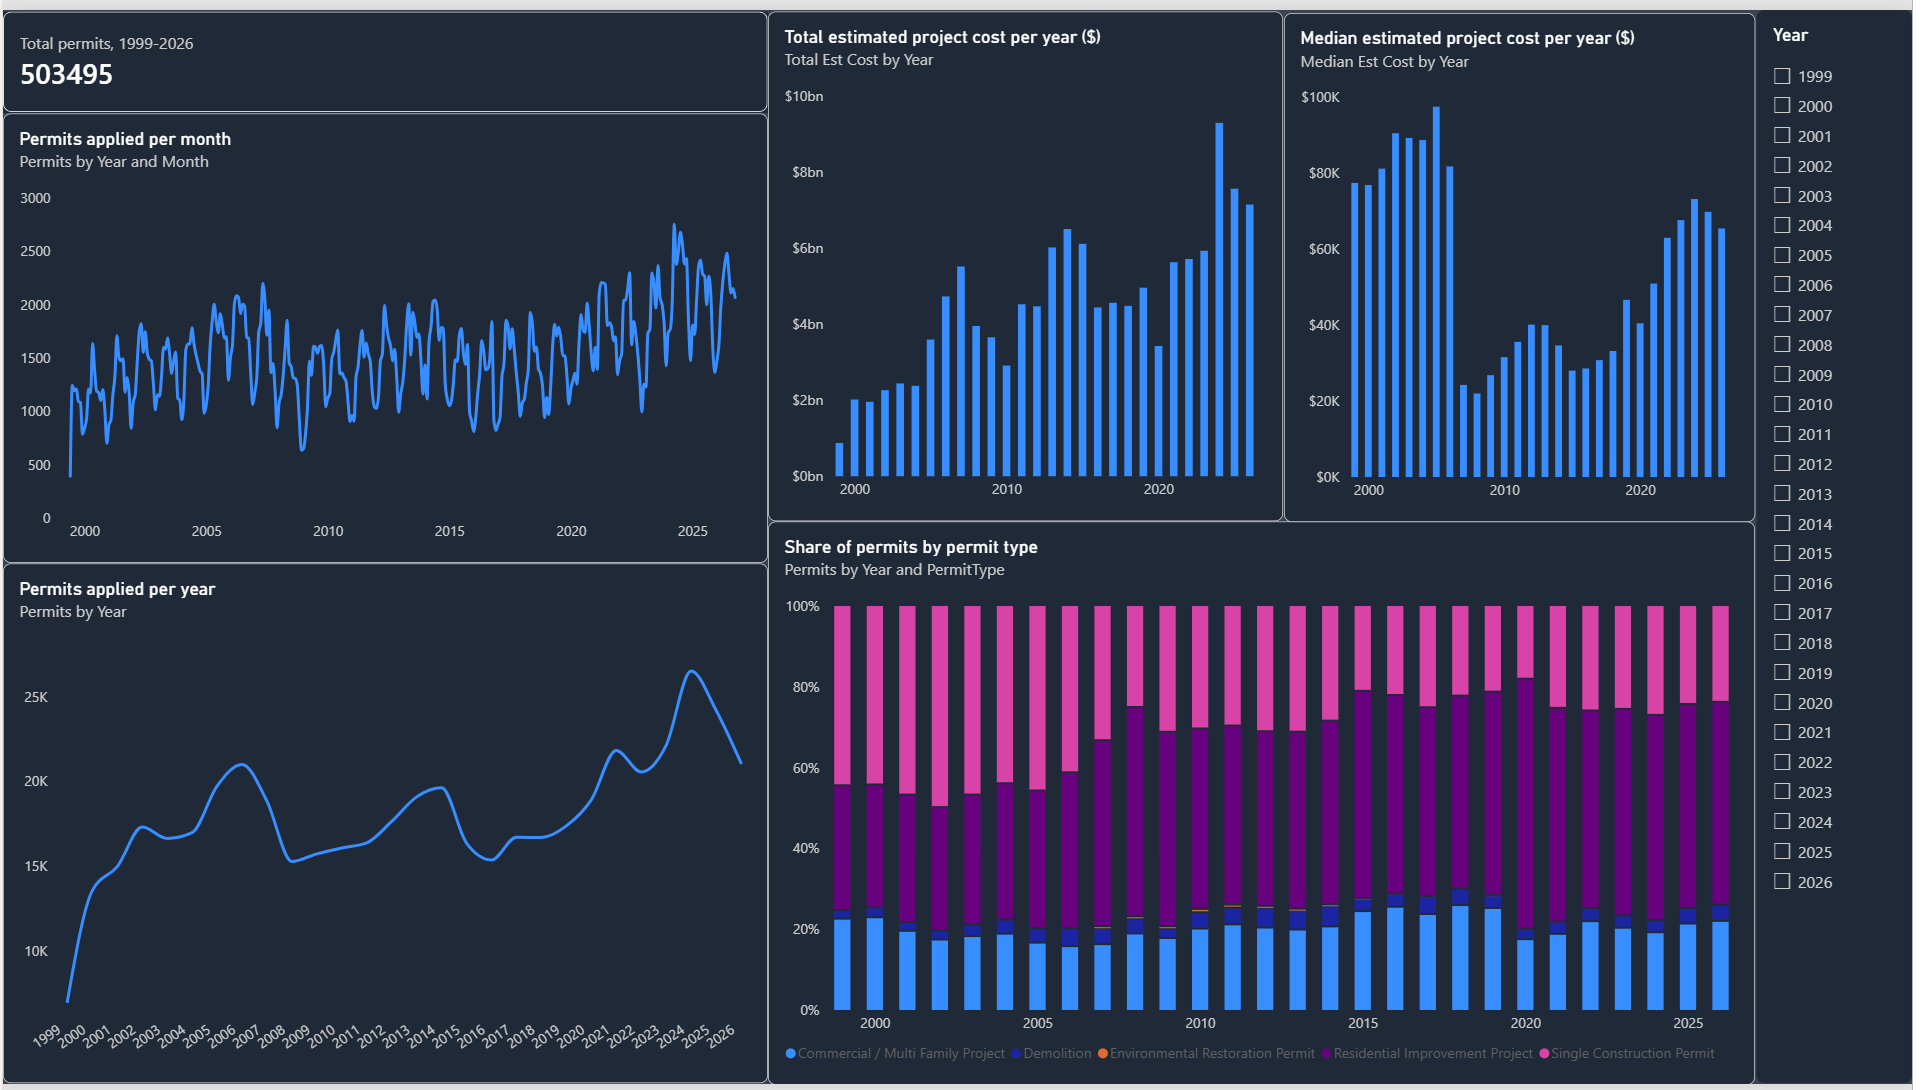

The page's visual inventory and layout, read from the dashboard file:
{"tool":"powerbi","page":{"name":"Trends","canvas":[1920,1080],"ordinal":1},"visuals":[{"type":"cardVisual","title":"Total permits, 1999-2026","fields":{"Data":["Count(building_permits_clean.PermitNum)"]},"box":[0,1.5,769.6,101.8],"z":0},{"type":"lineChart","title":"Permits applied per year","fields":{"Category":["Calendar.Year"],"Y":["Permits.Permits"]},"box":[0,556.7,769.6,522.9],"z":1000},{"type":"hundredPercentStackedColumnChart","title":"Share of permits by permit type","fields":{"Category":["Calendar.Year"],"Series":["Permits.PermitType"],"Y":["Permits.Permits"]},"box":[769.4,514.5,992.5,566.6],"z":2000},{"type":"lineChart","title":"Permits applied per month","fields":{"Category":["Calendar.Date.Variation.Date Hierarchy.Year","Calendar.Date.Variation.Date Hierarchy.Month"],"Y":["Permits.Permits"]},"box":[0,104.1,769.6,452.1],"z":3000},{"type":"clusteredColumnChart","title":"Total estimated project cost per year ($)","fields":{"Category":["Calendar.Year"],"Y":["Permits.Total Est Cost"]},"box":[769.4,1.5,518,512.7],"z":4000},{"type":"clusteredColumnChart","title":"Median estimated project cost per year ($)","fields":{"Category":["Calendar.Year"],"Y":["Permits.Median Est Cost"]},"box":[1288.4,3,474,512],"z":5000},{"type":"listSlicer","fields":{"Values":["Calendar.Year"]},"box":[1763.6,0,156.4,1079.4],"z":6000}]}

Visuals, with their boxes in screenshot pixels (x1, y1, x2, y2), scaled from the page's 1920x1080 canvas onto the 1923x1090 screenshot:
"Total permits, 1999-2026" cardVisual: crop(0, 2, 771, 104)
"Permits applied per year" lineChart: crop(0, 562, 771, 1089)
"Share of permits by permit type" hundredPercentStackedColumnChart: crop(771, 519, 1765, 1089)
"Permits applied per month" lineChart: crop(0, 105, 771, 561)
"Total estimated project cost per year ($)" clusteredColumnChart: crop(771, 2, 1289, 519)
"Median estimated project cost per year ($)" clusteredColumnChart: crop(1290, 3, 1765, 520)
listSlicer - Calendar.Year: crop(1766, 0, 1922, 1089)
